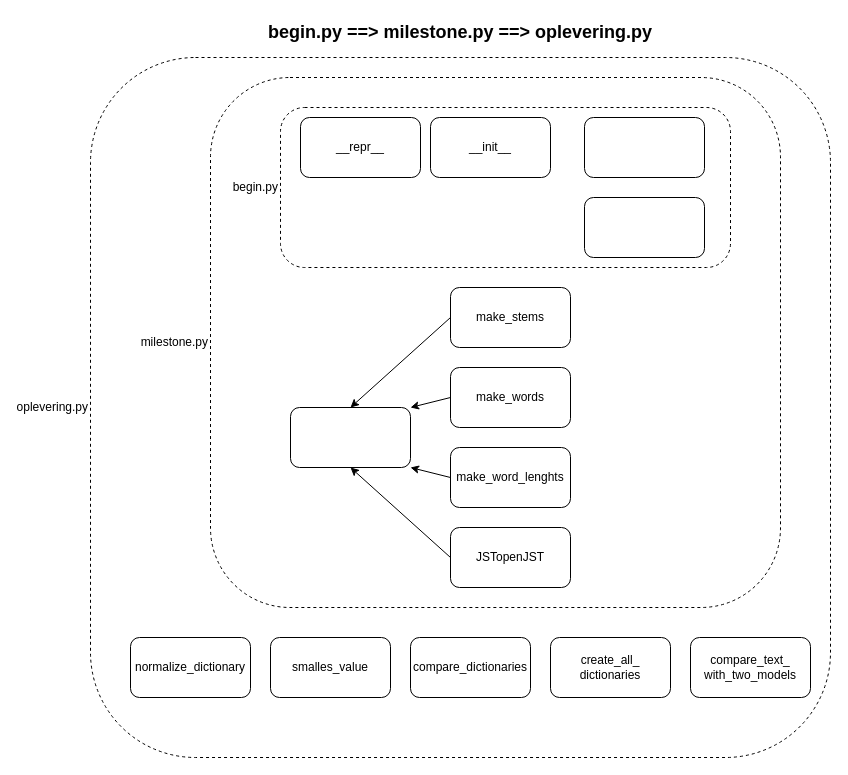
Some shapes in this 848 by 775 pixel diagram are drawn without their labels. Each missing label, with the centre of its shape:
"clean_string" belongs at point (350, 437).
"make_sentence_ lengths" belongs at point (644, 227).
"read_text_from_file" belongs at point (644, 147).
